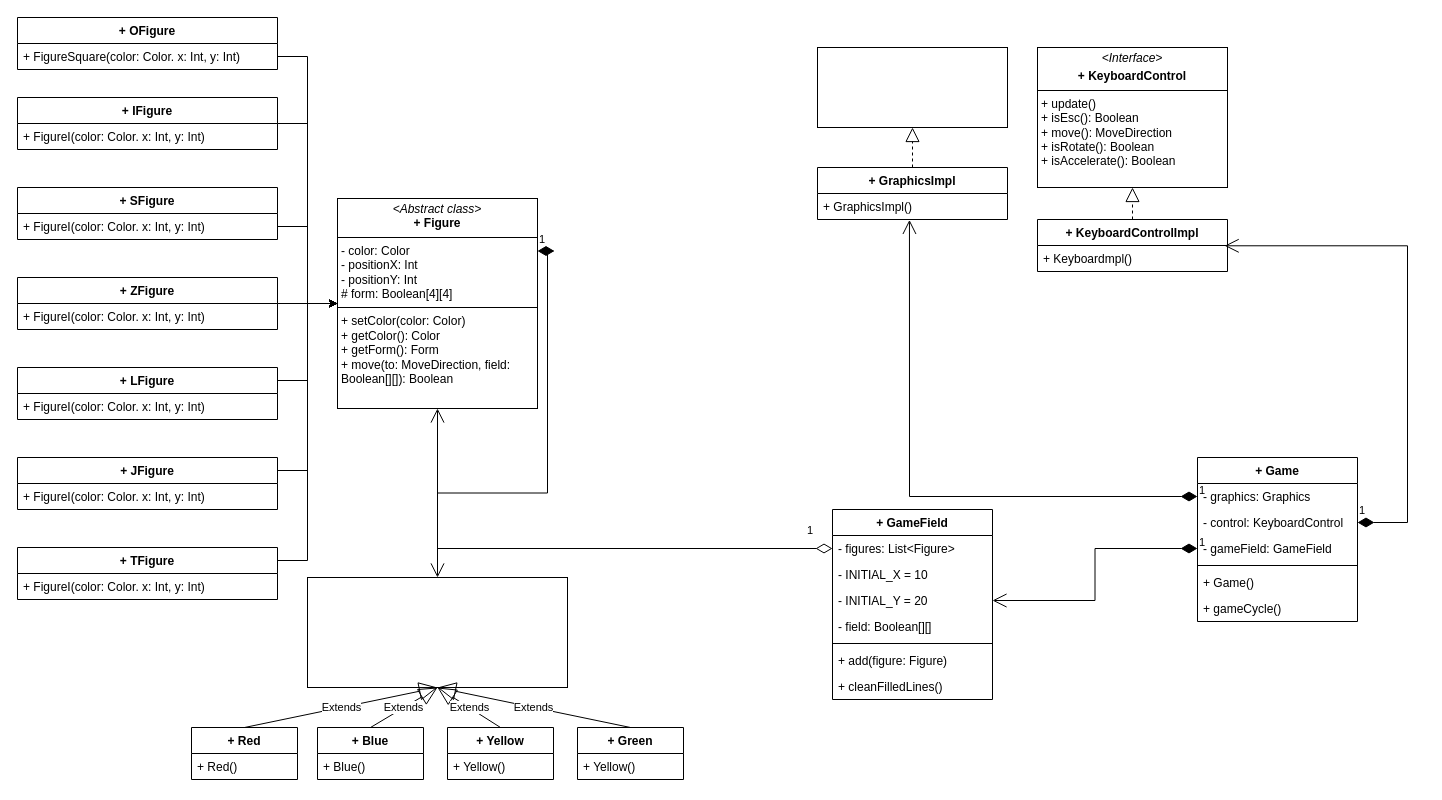
Image size: 1442x800. Some labels were removed from this diagram. The centre of each missing label's shape, as x and y in pixels:
<Abstract class> + Color - code: String + getCode(): String + setCode(): String: [437,632]
<Interface > + Graphics + draw(gameField: GameField): [912,87]
